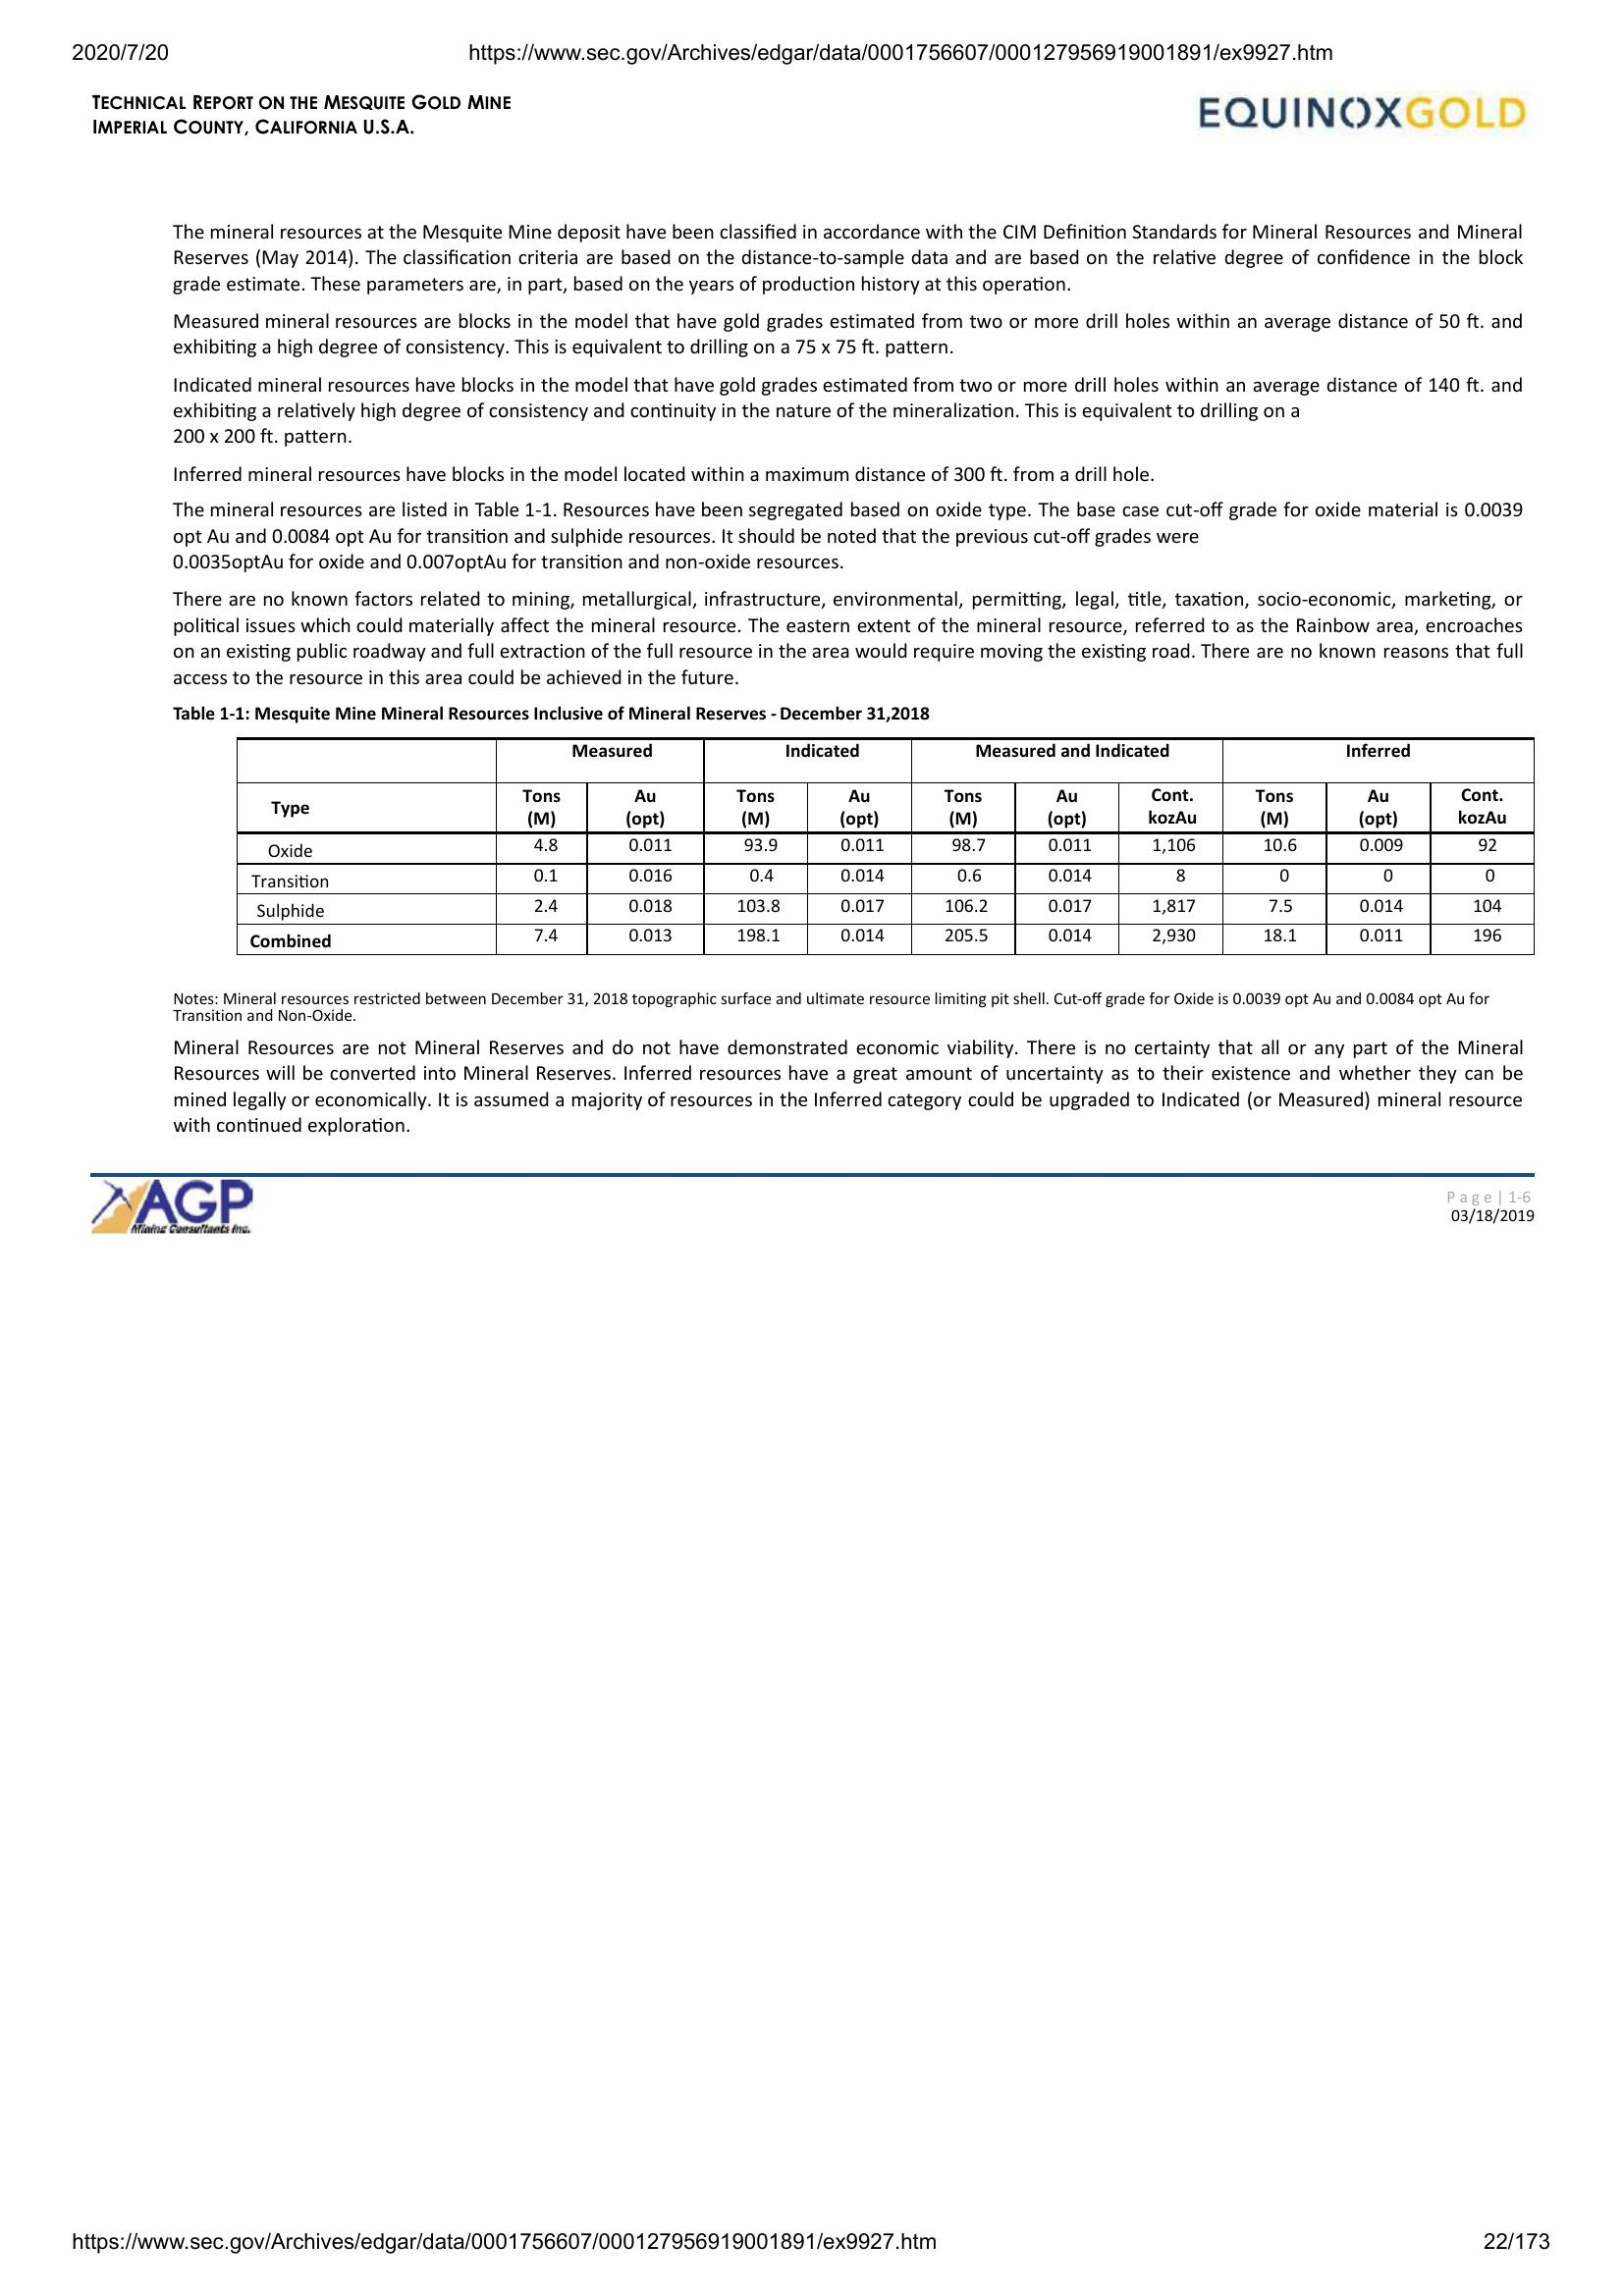table: (234, 728, 1542, 964)
